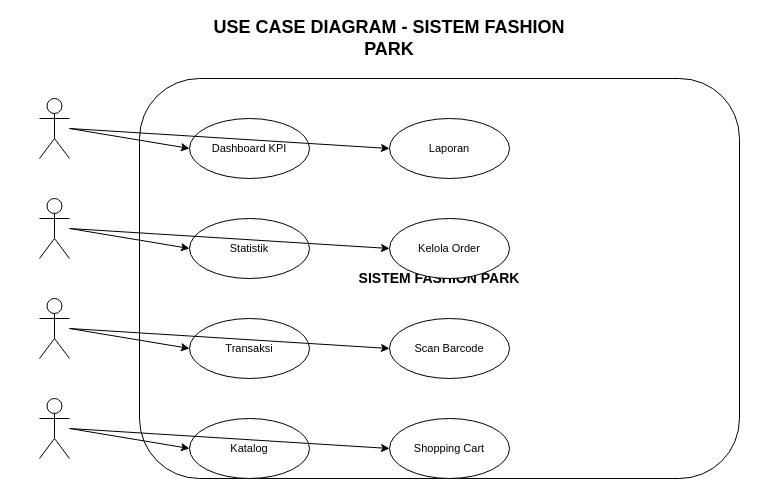
Image size: 757x497. Some labels were removed from this diagram. The centre of each missing label's shape, as x and y in pixels:
"ADMIN" belongs at pixel 54 228.
"KASIR" belongs at pixel 54 328.
"PELANGGAN" belongs at pixel 54 428.
"PEMILIK" belongs at pixel 54 128.
